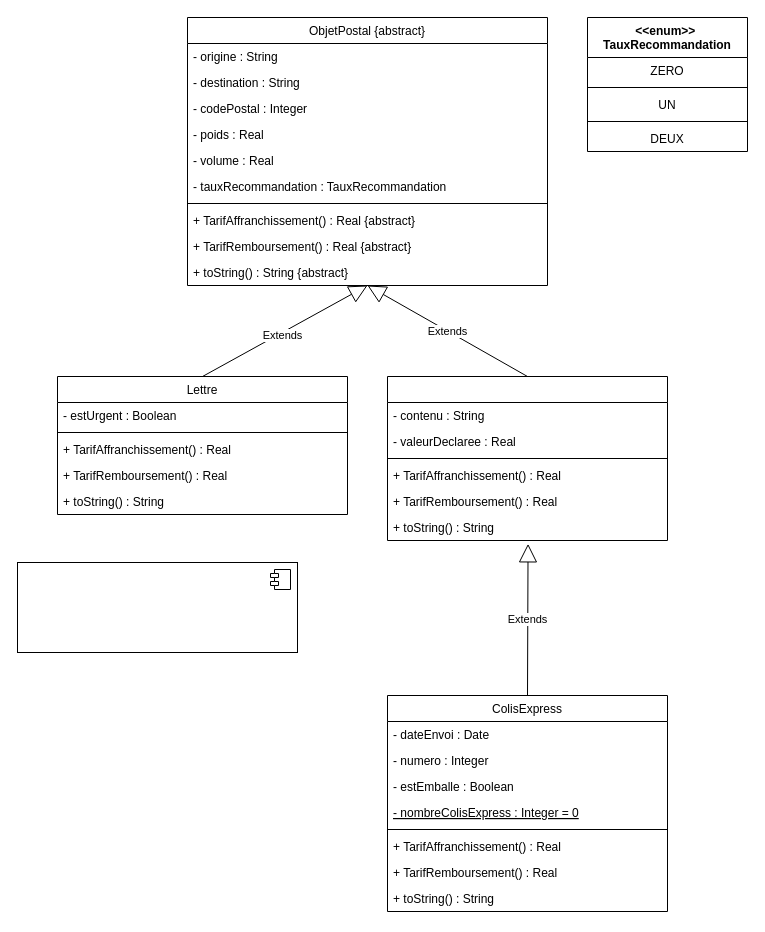
Some shapes in this 765 by 932 pixel diagram are drawn without their labels. Here are the shapes that lost their labels. From the top down, the box of each, then its label:
(386, 376, 668, 540): Colis
(16, 562, 298, 652): A rajouter dans les classes: Constructeurs (par défault + paramétrés) Accesseurs
